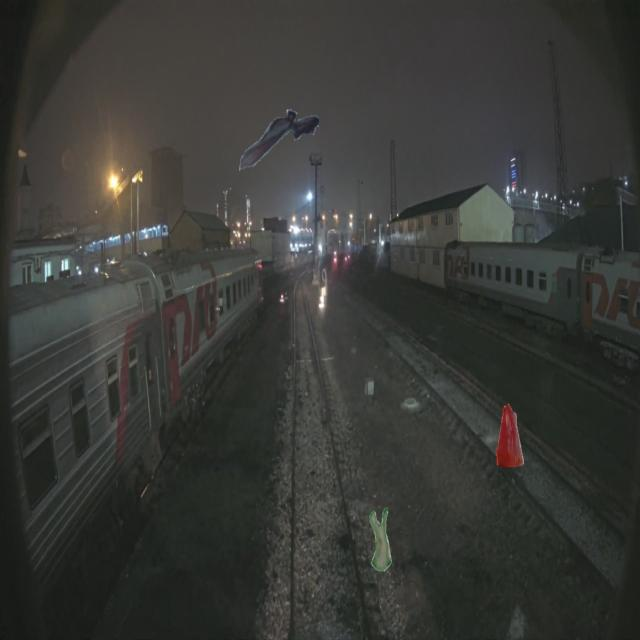floating object: (238, 108, 320, 172)
plastic bag: (496, 403, 524, 467), (369, 508, 392, 572)
